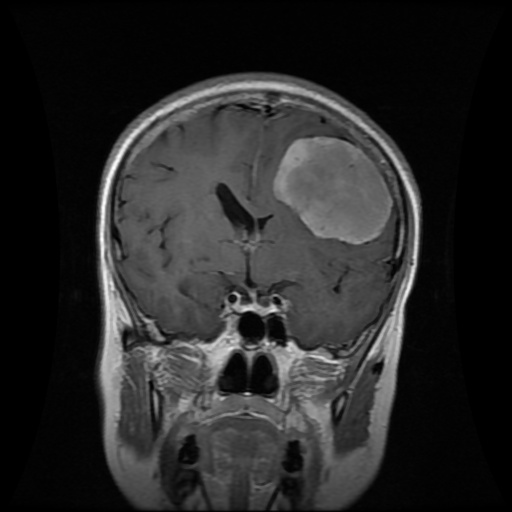meningioma: (273, 136, 393, 244)
